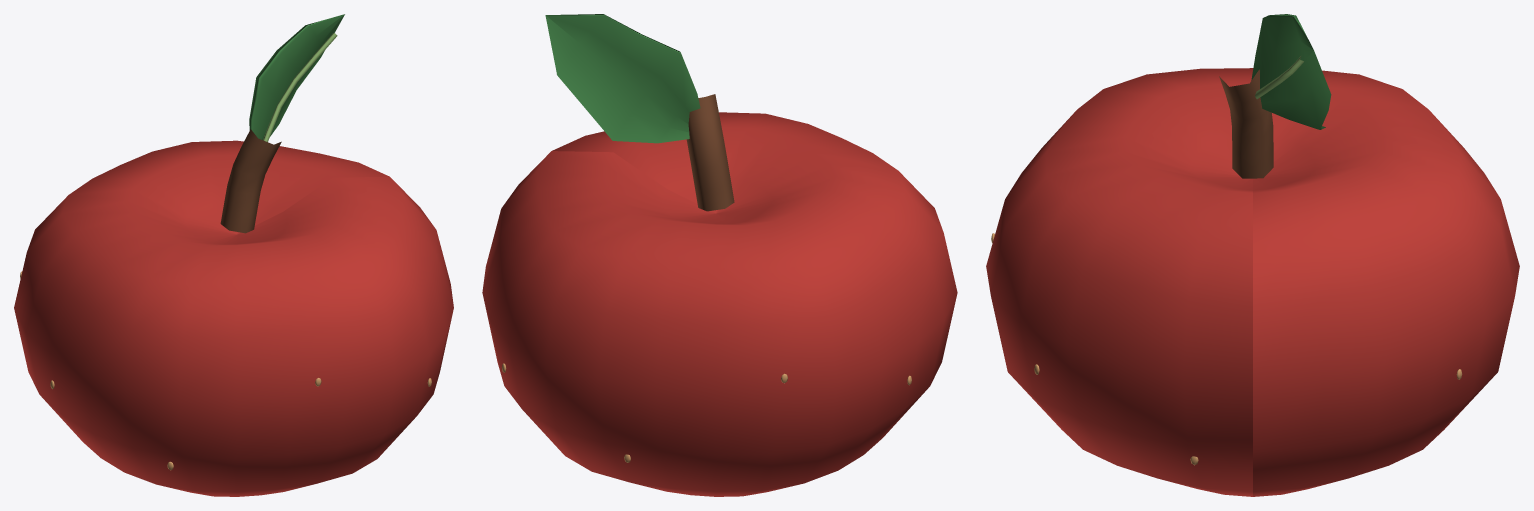
File: fruta_manzana.glb
3 renders of one model, left to right at view 1: azimuth 30°, elevation 25°; view 2: azimuth 150°, elevation 25°; view 3: azimuth 270°, elevation 25°, orthographic. The views are drawn at different scales.
Parts seen in each view (by area): view 1: fruta_manzana; view 2: fruta_manzana; view 3: fruta_manzana.
Boxes of the visible parts, bbox=[...] form: fruta_manzana: bbox=[14, 14, 453, 496]; fruta_manzana: bbox=[482, 14, 957, 496]; fruta_manzana: bbox=[986, 14, 1519, 496].
Bounding box in the file's own units: 0.31 × 0.3102 × 0.31.
